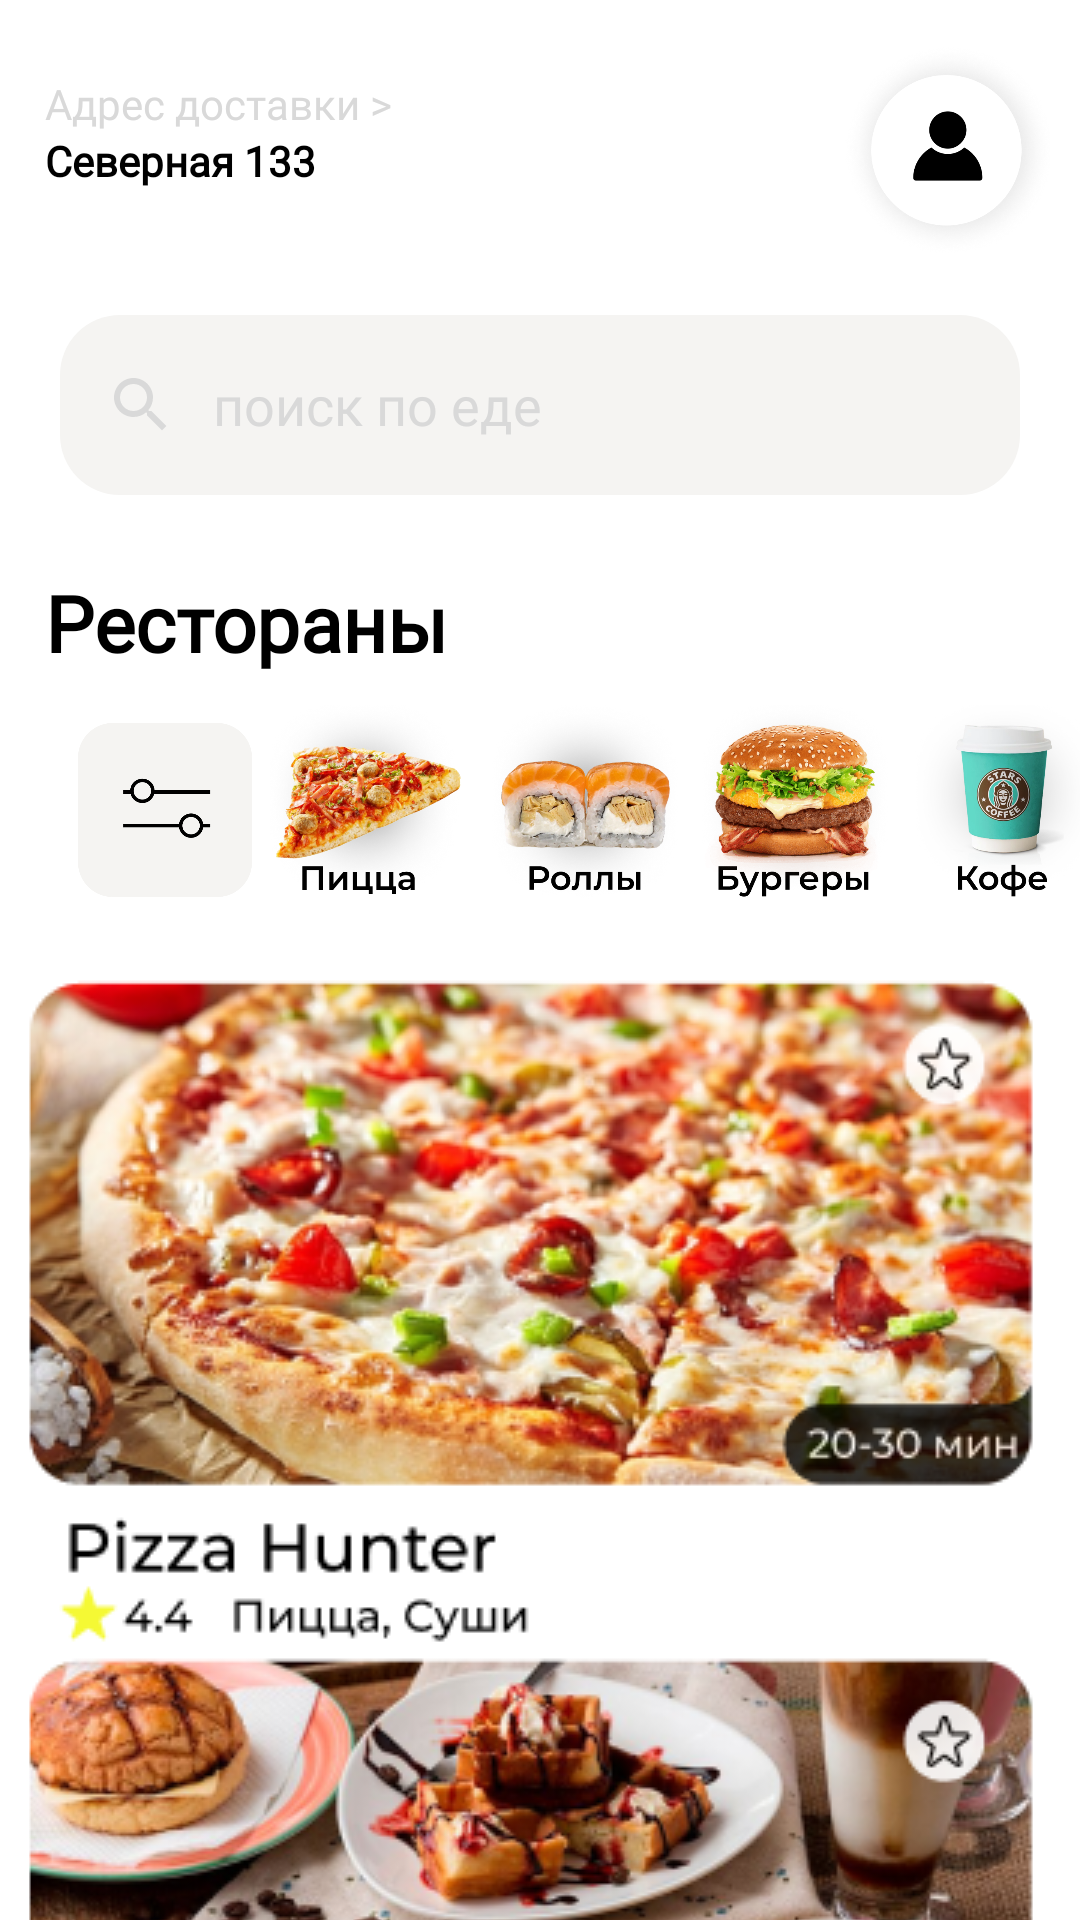

Named icons in this screenshot (1080px×1920px) and their centers, [x,y]:
filter setting scroll: [165,810]
user: [948,146]
